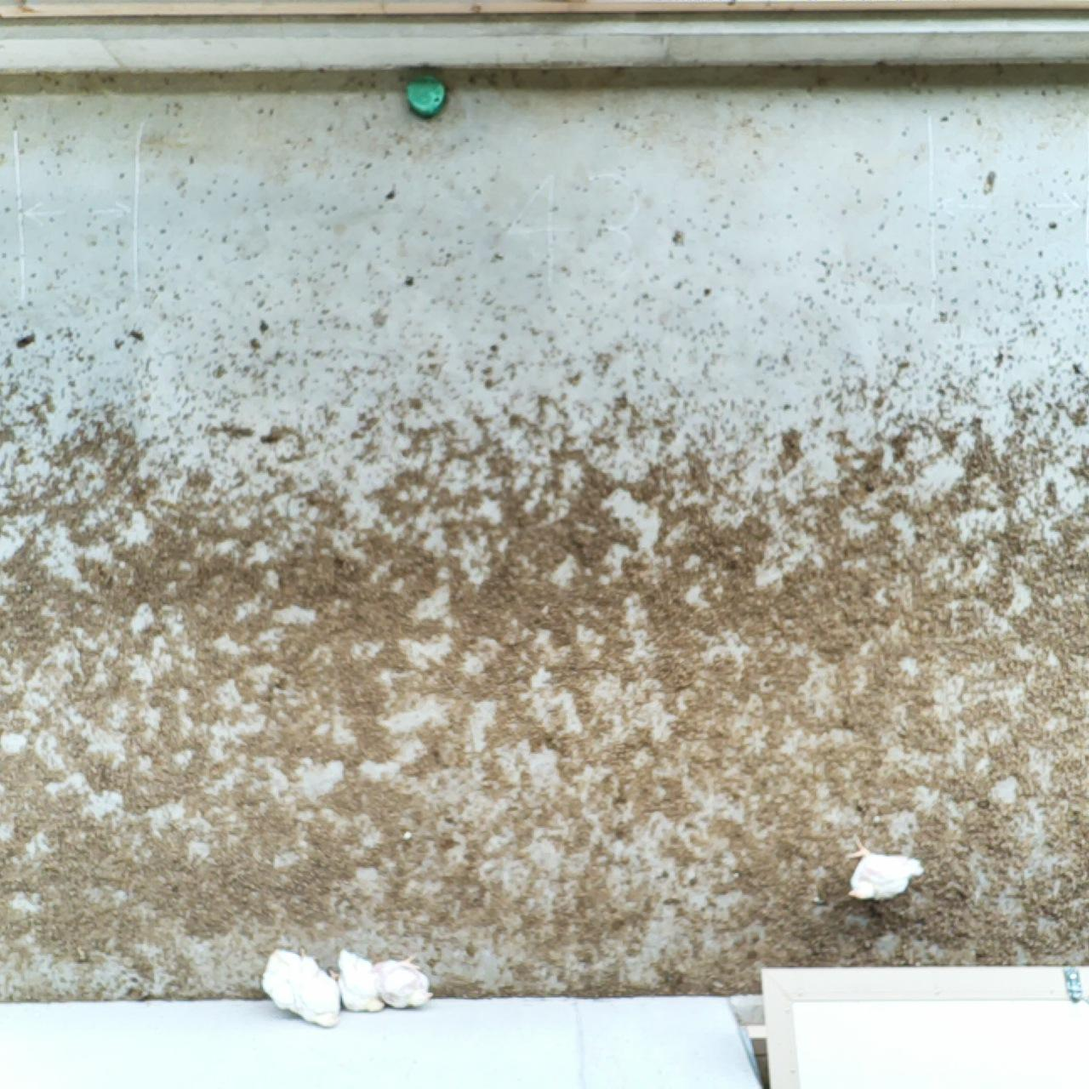chicken: (259, 942, 345, 1033), (842, 829, 927, 906), (326, 945, 390, 1016), (370, 952, 439, 1013)
